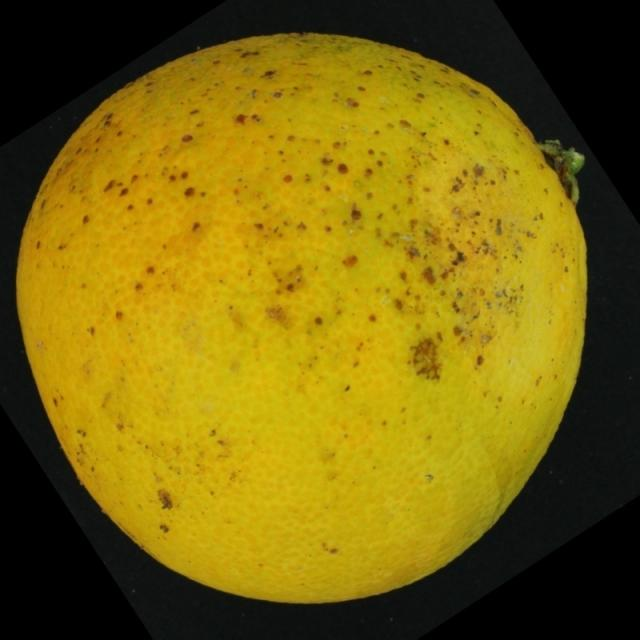grenning: (8, 14, 601, 621)
